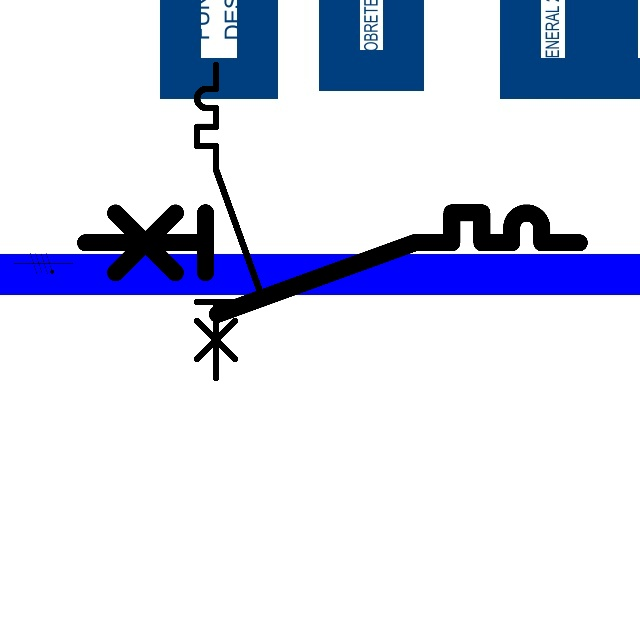interruptor_termomagnetico: (72, 200, 591, 327), (189, 57, 269, 386)
